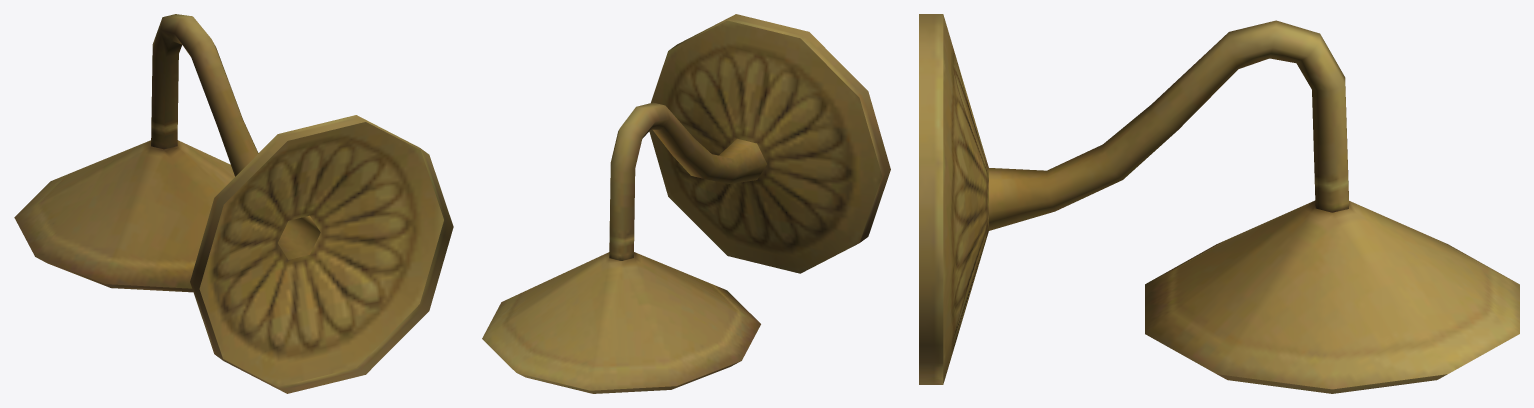
The model's file is barlamp_001.glb.
3 views of the same model, side by side, from view 1: azimuth 30°, elevation 25°; view 2: azimuth 150°, elevation 25°; view 3: azimuth 270°, elevation 25° (orthographic). The views are drawn at different scales.
Parts seen in each view (by area): view 1: barlamp_001; view 2: barlamp_001; view 3: barlamp_001.
Boxes of the visible parts, left/top/right/bottom form: barlamp_001: left=14, top=14, right=453, bottom=393; barlamp_001: left=482, top=14, right=890, bottom=393; barlamp_001: left=919, top=14, right=1519, bottom=393.
Size of the model in its own units: 0.5503 by 0.5371 by 0.8704.
Materials: 1 (1 with a texture image).
